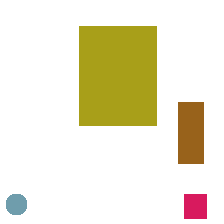circle: (6, 194, 26, 214)
rectangle: (79, 26, 156, 125), (178, 102, 203, 163), (184, 194, 206, 218)
